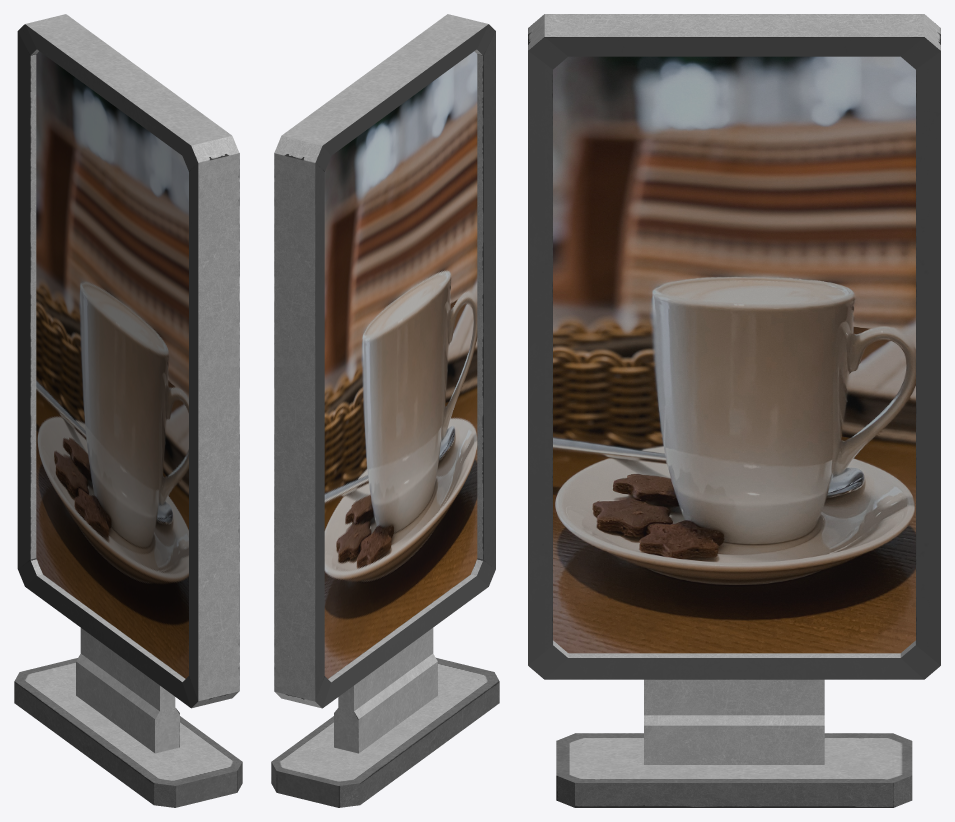
Rendered from Panel013.FBX.
3 views of the same model, side by side, from view 1: azimuth 30°, elevation 25°; view 2: azimuth 150°, elevation 25°; view 3: azimuth 270°, elevation 25° (orthographic). The views are drawn at different scales.
Visible parts, largest first — view 1: Panel013; view 2: Panel013; view 3: Panel013.
Part boxes in pixels (x1,y1,x2,y2): Panel013: (14,14,242,807); Panel013: (271,14,499,807); Panel013: (528,14,940,807).
Bounding box in the file's own units: 297 × 2125 × 1049.
